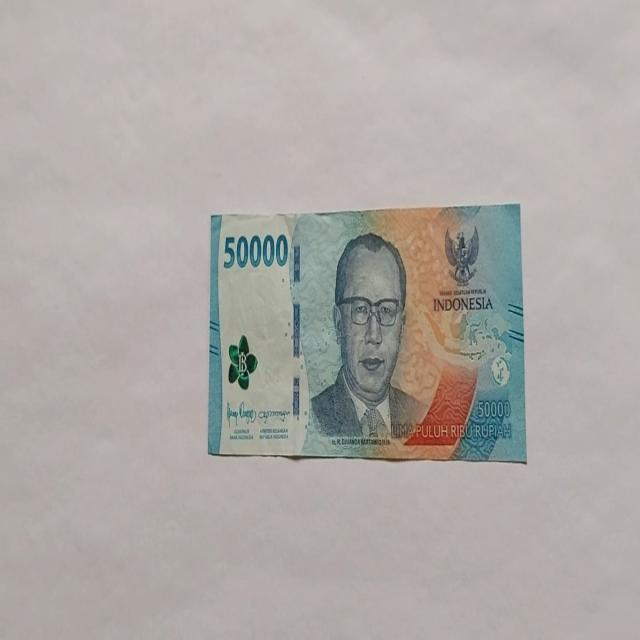lima puluh ribu rupiah: (207, 203, 526, 462), (304, 230, 430, 447)
